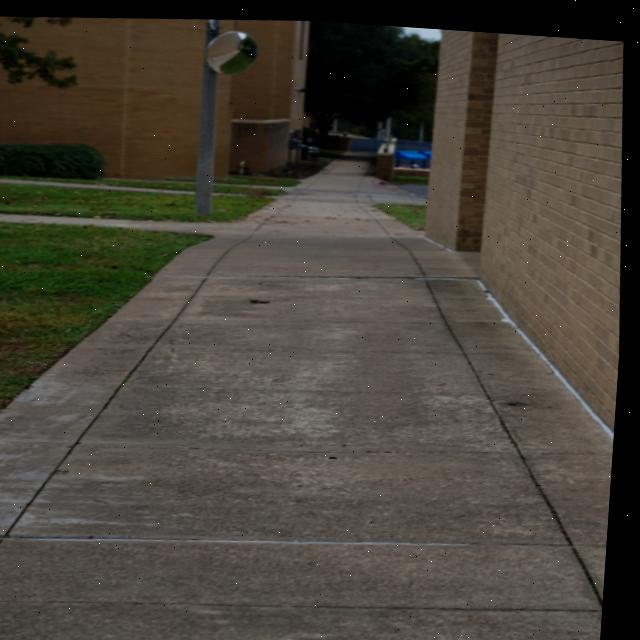Sidewalk: (0, 154, 619, 640), (0, 177, 198, 192), (217, 180, 293, 187)
